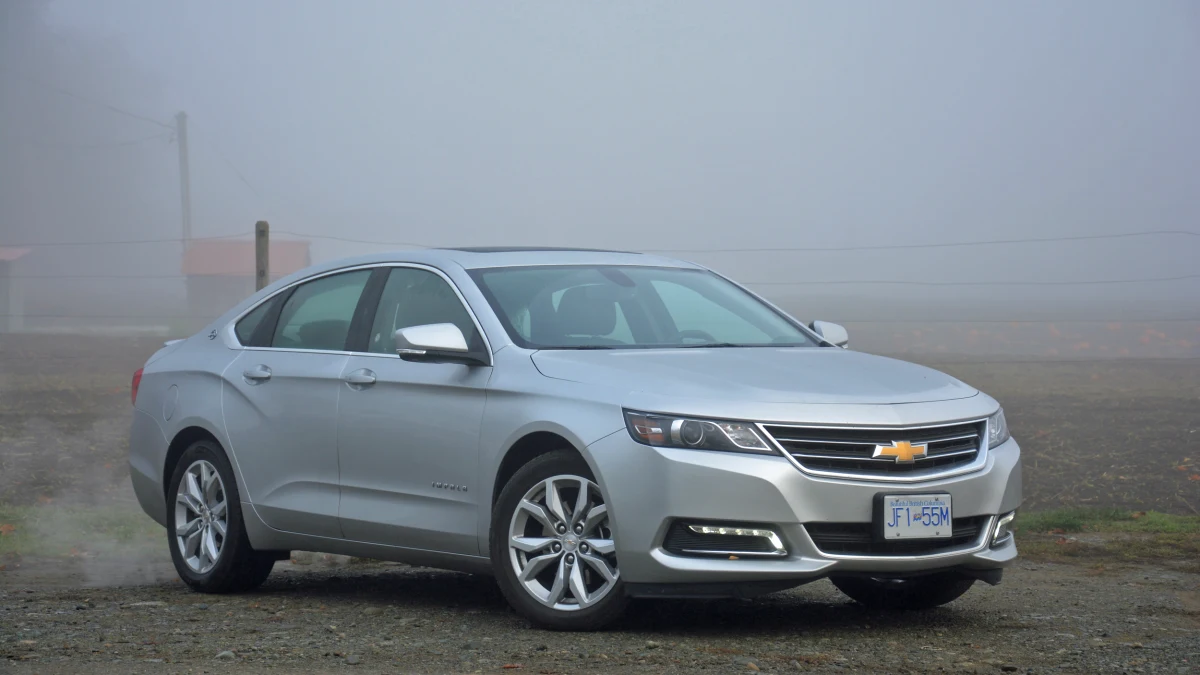car: (113, 241, 1031, 630)
